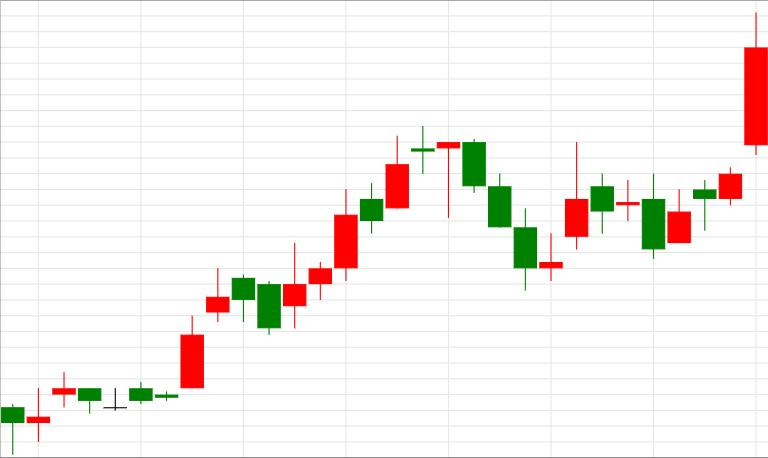three_black_crows_fall: (284, 127, 536, 328)
